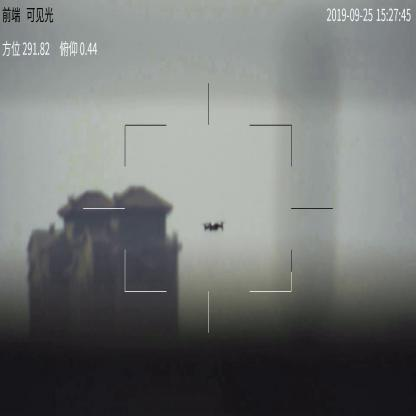uav: (204, 222, 225, 234)
